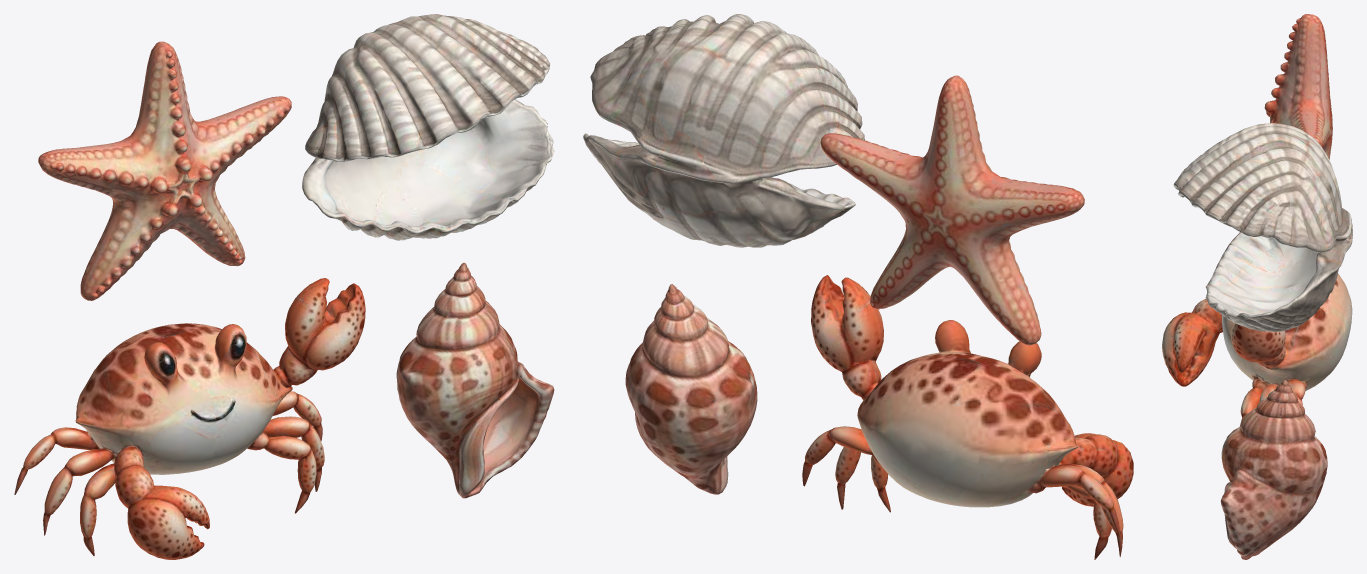
3 views of the same model, side by side, from view 1: azimuth 30°, elevation 25°; view 2: azimuth 150°, elevation 25°; view 3: azimuth 270°, elevation 25° (orthographic). The views are drawn at different scales.
Visible parts, largest first — view 1: Mesh 1, Mesh 3, Mesh 2, Mesh 4; view 2: Mesh 3, Mesh 1, Mesh 2, Mesh 4; view 3: Mesh 3, Mesh 4, Mesh 1, Mesh 2.
Boxes of the visible parts, box(x1,y1,x2,y2) form: Mesh 1: box(14, 278, 365, 559); Mesh 3: box(302, 14, 554, 240); Mesh 2: box(38, 41, 291, 300); Mesh 4: box(396, 262, 554, 498); Mesh 3: box(583, 14, 864, 247); Mesh 1: box(802, 275, 1133, 559); Mesh 2: box(820, 75, 1084, 345); Mesh 4: box(625, 284, 757, 494); Mesh 3: box(1173, 123, 1352, 331); Mesh 4: box(1220, 380, 1327, 559); Mesh 1: box(1162, 273, 1352, 426); Mesh 2: box(1264, 14, 1332, 159).
Bounding box in the file's own units: 1.9 × 1.71 × 0.6886.
Materials: 4 (4 with a texture image).
